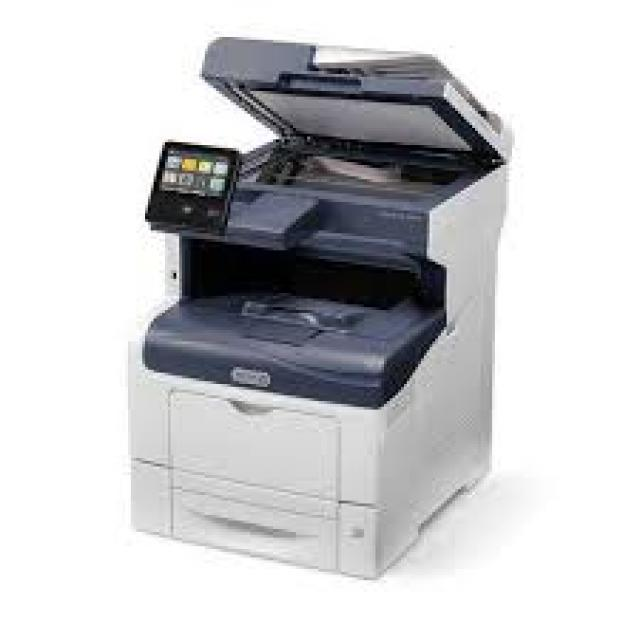printer: (122, 15, 518, 609)
